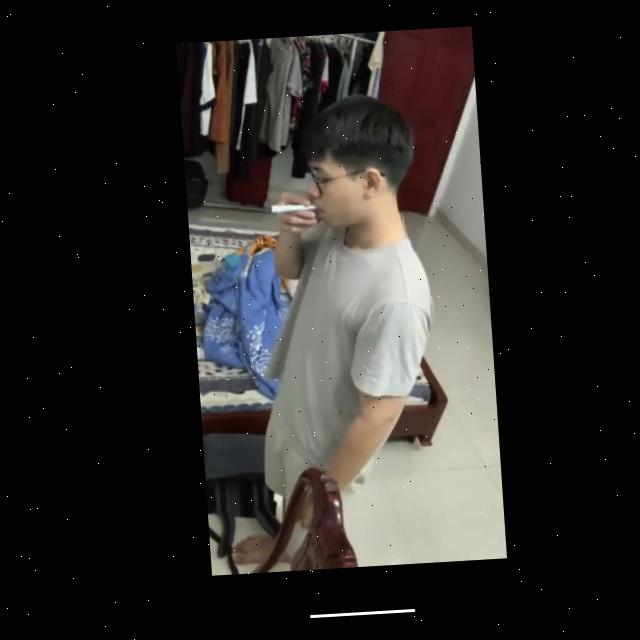cigarette: (267, 206, 315, 218)
